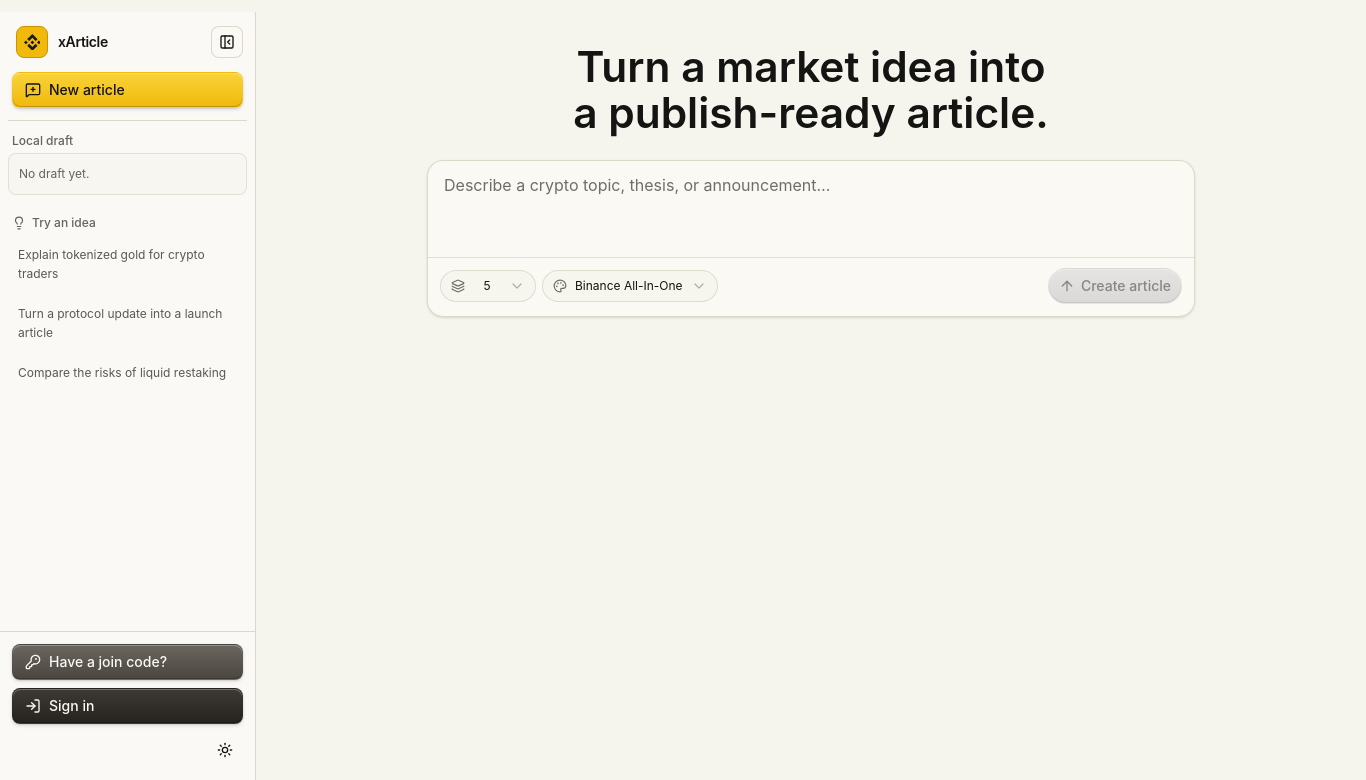
Test case: PublicHome › selects a starter idea, focuses the composer, and makes no network request
The width and height of the screenshot is (1366, 780).
Step 1. Click the button "Explain tokenized gold for crypto traders" → (128,264), box x1=8 y1=236 x2=247 y2=292
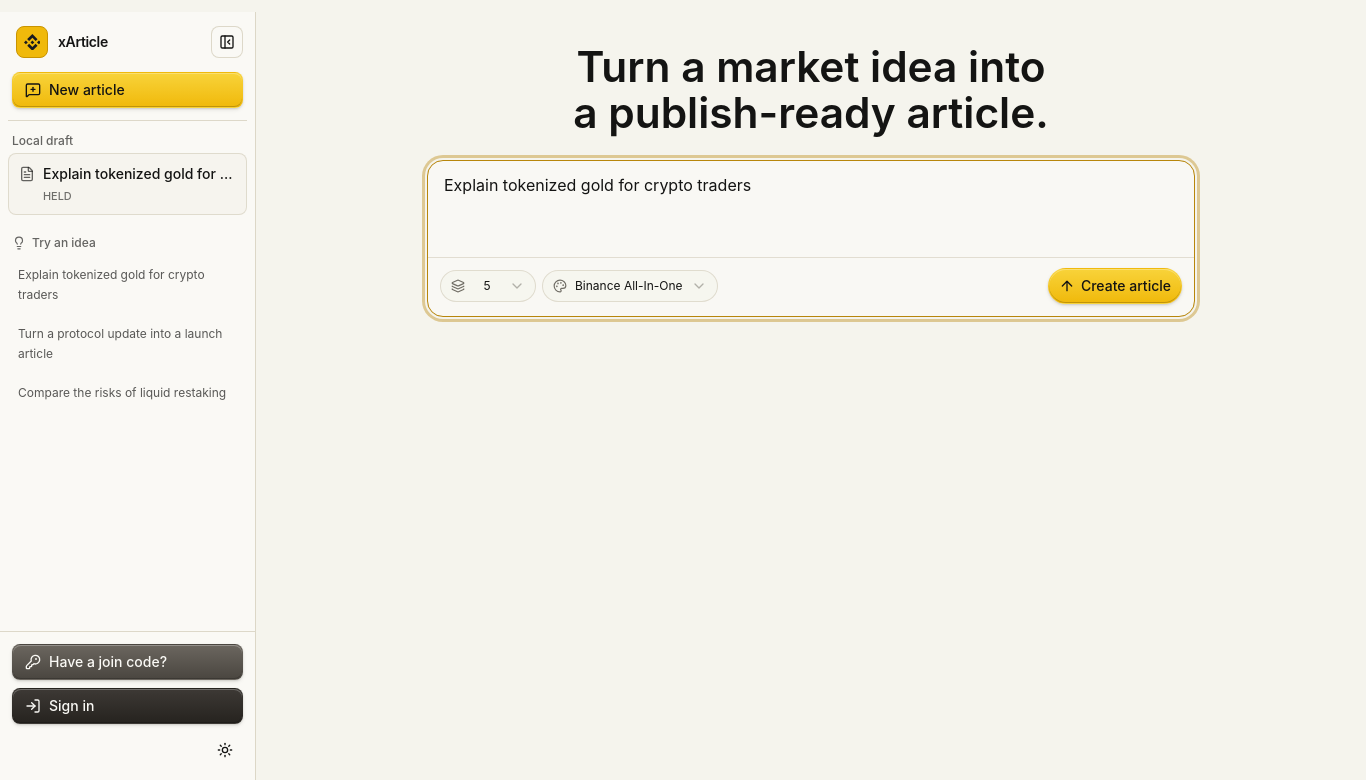
Result: the text box named "Article idea" holds "Explain tokenized gold for crypto traders" at x1=428 y1=161 x2=1194 y2=257
